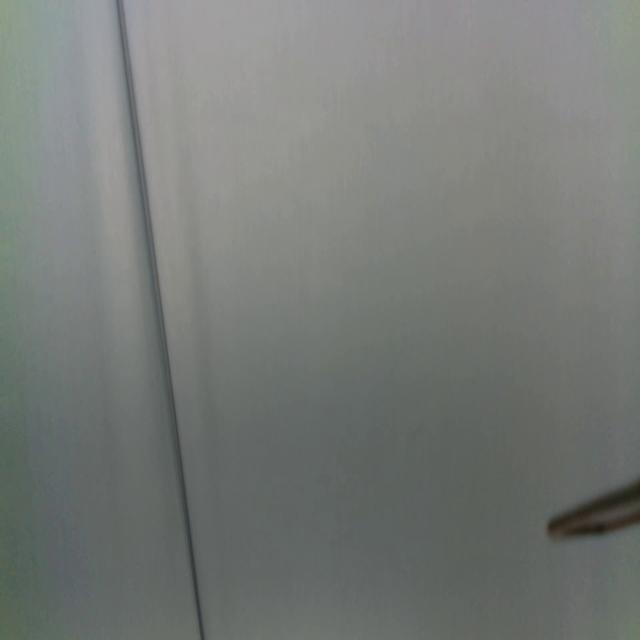crease: (117, 0, 205, 640)
